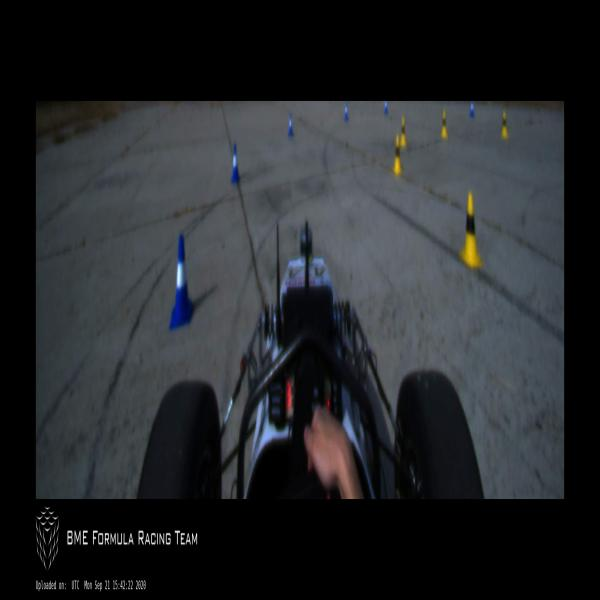blue_cone: (169, 234, 193, 328), (231, 144, 240, 185), (288, 113, 293, 138), (344, 101, 348, 121), (470, 102, 474, 117), (384, 102, 388, 115)
yellow_cone: (458, 193, 483, 269), (394, 134, 402, 176), (400, 115, 407, 148), (501, 110, 509, 138), (441, 110, 448, 140)
